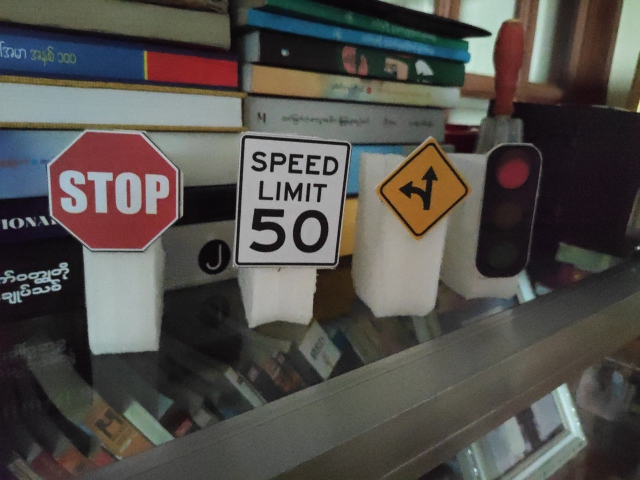Red Traffic Light: (475, 144, 542, 279)
Speed Limit 50: (231, 133, 353, 267)
Stop Sign: (46, 129, 183, 253)
Straight Or Left Sign: (377, 140, 470, 238)
